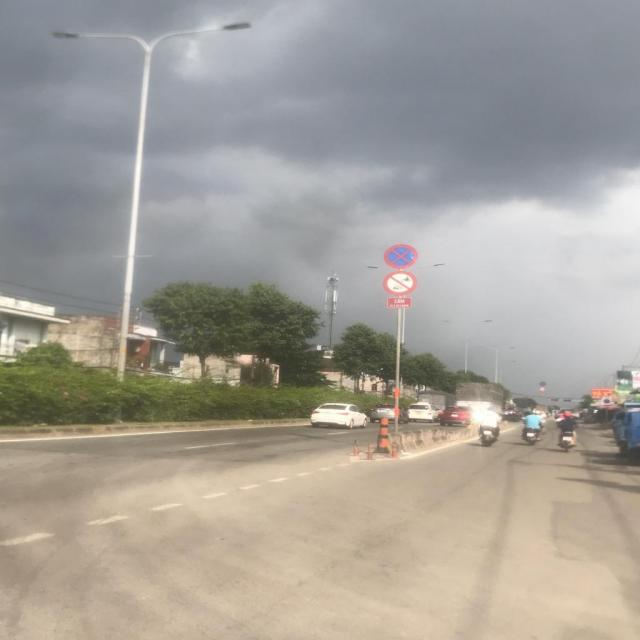cam_dung_xe_va_do_xe: (384, 244, 418, 269), (540, 382, 547, 386), (604, 399, 610, 403)
cam_xe_2_banh_va_xe_3_banh_co_dong_co: (382, 272, 418, 296), (539, 387, 545, 391)
